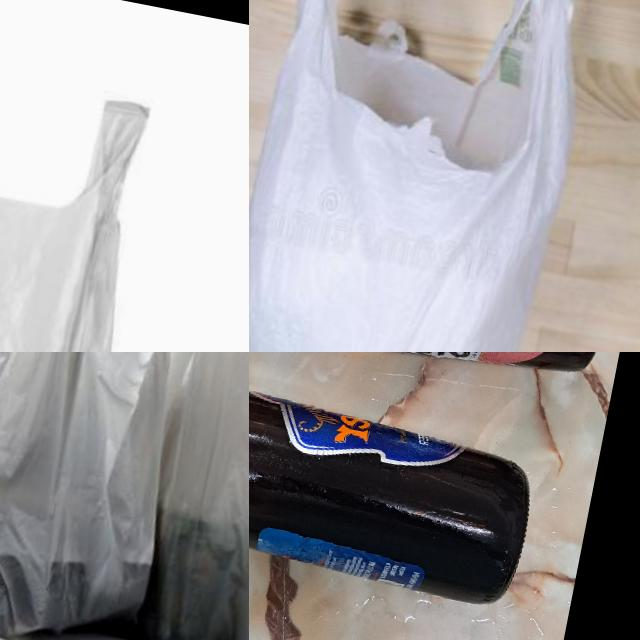garrafa de vidro: (249, 367, 544, 610)
sacola plástica: (249, 0, 624, 352), (0, 352, 249, 640), (0, 33, 164, 352), (108, 352, 249, 640), (0, 352, 71, 618)
